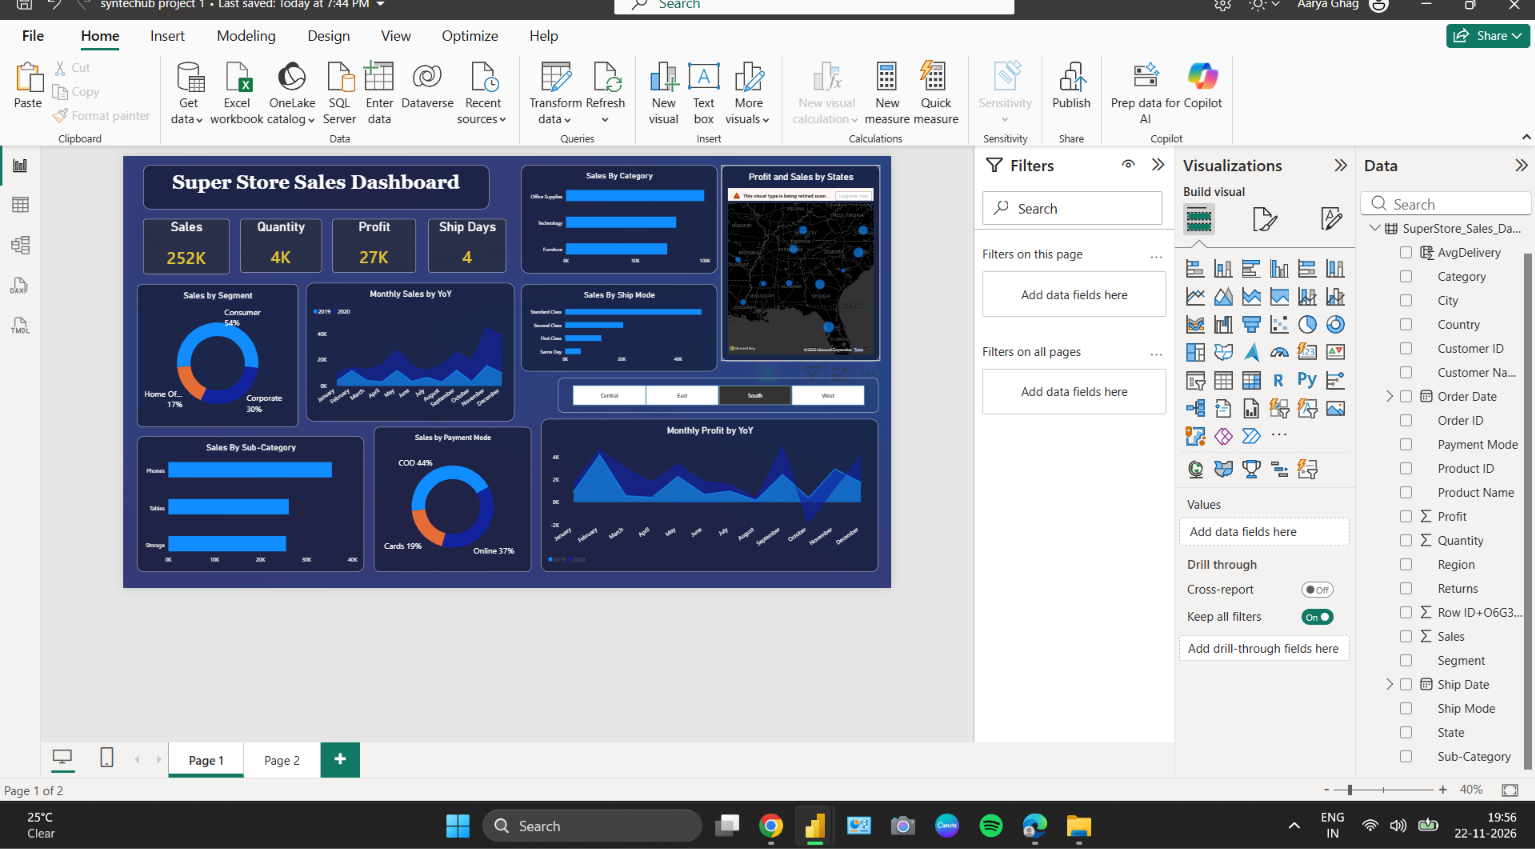

The page's visual inventory and layout, read from the dashboard file:
{"tool":"powerbi","page":{"name":"Page 1","canvas":[1920,1080],"ordinal":0},"visuals":[{"type":"clusteredBarChart","title":"Sales By Category","fields":{"Category":["SuperStore_Sales_Dataset.Category"],"Y":["Sum(SuperStore_Sales_Dataset.Sales)"]},"box":[995,22.5,490,270],"z":0},{"type":"clusteredBarChart","title":"Sales By  Sub-Category","fields":{"Category":["SuperStore_Sales_Dataset.Sub-Category"],"Y":["Sum(SuperStore_Sales_Dataset.Sales)"]},"box":[35,700,567.5,340],"z":1000},{"type":"clusteredBarChart","title":"Sales By Ship Mode","fields":{"Category":["SuperStore_Sales_Dataset.Ship Mode"],"Y":["Sum(SuperStore_Sales_Dataset.Sales)"]},"box":[994.2,319,489.9,218.2],"z":2000},{"type":"stackedAreaChart","title":"Monthly Profit by YoY","fields":{"Category":["SuperStore_Sales_Dataset.Order Date.Variation.Date Hierarchy.Month","SuperStore_Sales_Dataset.Order Date.Variation.Date Hierarchy.Day"],"Series":["SuperStore_Sales_Dataset.Order Date.Variation.Date Hierarchy.Year"],"Y":["Sum(SuperStore_Sales_Dataset.Profit)"]},"box":[1045,657.5,842.5,382.5],"z":3000},{"type":"map","title":"Profit and Sales by States","fields":{"Category":["SuperStore_Sales_Dataset.State"],"Size":["Sum(SuperStore_Sales_Dataset.Sales)"]},"box":[1494.3,22.6,397.5,490],"z":4000},{"type":"donutChart","title":"Sales by Segment","fields":{"Category":["SuperStore_Sales_Dataset.Segment"],"Y":["Sum(SuperStore_Sales_Dataset.Sales)"]},"box":[35,320,402.5,357.5],"z":5000},{"type":"donutChart","title":"Sales by Payment Mode","fields":{"Category":["SuperStore_Sales_Dataset.Payment Mode"],"Y":["Sum(SuperStore_Sales_Dataset.Sales)"]},"box":[627.5,677.5,392.5,362.5],"z":6000},{"type":"slicer","fields":{"Values":["SuperStore_Sales_Dataset.Region"]},"box":[1086.8,555.7,800.7,86.4],"z":7000},{"type":"textbox","box":[50,23.3,865,110],"z":8000},{"type":"cardVisual","title":"Sales","fields":{"Data":["Sum(SuperStore_Sales_Dataset.Sales)"]},"box":[49.4,158.5,216.1,137.9],"z":9000},{"type":"cardVisual","title":"Quantity","fields":{"Data":["Sum(SuperStore_Sales_Dataset.Quantity)"]},"box":[292.3,158.5,203.8,133.8],"z":10000},{"type":"cardVisual","title":"Profit","fields":{"Data":["Sum(SuperStore_Sales_Dataset.Profit)"]},"box":[522.8,158.5,209.9,133.8],"z":11000},{"type":"cardVisual","title":"Ship Days","fields":{"Data":["Avg(SuperStore_Sales_Dataset.AvgDelivery)"]},"box":[763.6,158.5,195.5,133.8],"z":12000},{"type":"stackedAreaChart","title":"Monthly Sales by YoY","fields":{"Category":["SuperStore_Sales_Dataset.Order Date.Variation.Date Hierarchy.Month","SuperStore_Sales_Dataset.Order Date.Variation.Date Hierarchy.Day"],"Series":["SuperStore_Sales_Dataset.Order Date.Variation.Date Hierarchy.Year"],"Y":["Sum(SuperStore_Sales_Dataset.Sales)"]},"box":[457.8,318.5,521.2,345.6],"z":13000}]}

Visuals, with their boxes on the page's 1920x1080 design canvas (x1, y1, x2, y2). These are canvas units, not pixel positions in the 1535x849 screenshot, which may show the page scaled, cropped or inside an application window:
"Sales By Category" clusteredBarChart: (995, 22, 1485, 292)
"Sales By  Sub-Category" clusteredBarChart: (35, 700, 602, 1040)
"Sales By Ship Mode" clusteredBarChart: (994, 319, 1484, 537)
"Monthly Profit by YoY" stackedAreaChart: (1045, 658, 1888, 1040)
"Profit and Sales by States" map: (1494, 23, 1892, 513)
"Sales by Segment" donutChart: (35, 320, 438, 678)
"Sales by Payment Mode" donutChart: (628, 678, 1020, 1040)
slicer - SuperStore_Sales_Dataset.Region: (1087, 556, 1888, 642)
textbox: (50, 23, 915, 133)
"Sales" cardVisual: (49, 158, 266, 296)
"Quantity" cardVisual: (292, 158, 496, 292)
"Profit" cardVisual: (523, 158, 733, 292)
"Ship Days" cardVisual: (764, 158, 959, 292)
"Monthly Sales by YoY" stackedAreaChart: (458, 318, 979, 664)
